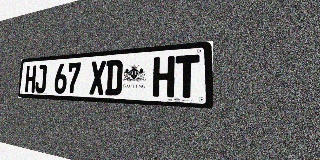6: (54, 63, 68, 94)
7: (66, 62, 81, 94)
D: (105, 59, 123, 96)
H: (152, 56, 175, 97), (25, 65, 36, 93)
J: (35, 64, 47, 93)
T: (175, 54, 199, 98)
X: (89, 61, 106, 95)
